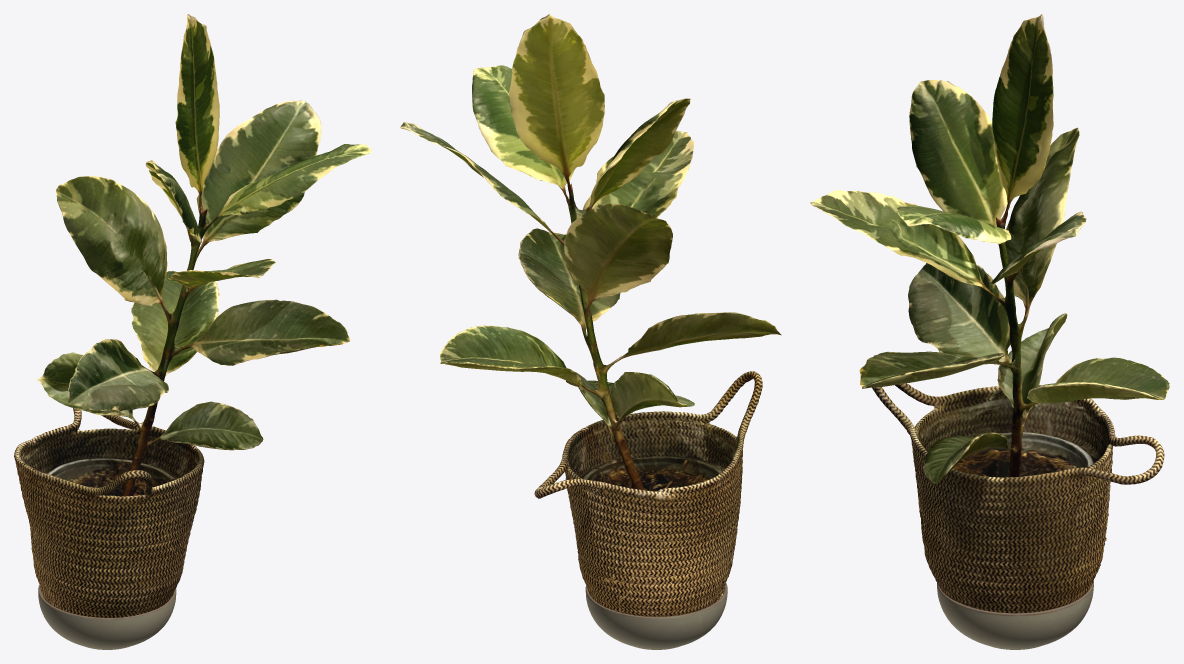
File: rubber_plant_fig.glb
3 views of the same model, side by side, from view 1: azimuth 30°, elevation 25°; view 2: azimuth 150°, elevation 25°; view 3: azimuth 270°, elevation 25° (orthographic). The views are drawn at different scales.
Parts seen in each view (by area): view 1: Polygon_1, Soup__Cereal_Bowl; view 2: Polygon_1, Soup__Cereal_Bowl; view 3: Polygon_1, Soup__Cereal_Bowl.
Boxes of the visible parts, x1,y1,x2,y2 form: Polygon_1: (14, 14, 371, 617); Soup__Cereal_Bowl: (38, 585, 176, 649); Polygon_1: (400, 14, 781, 616); Soup__Cereal_Bowl: (585, 583, 727, 649); Polygon_1: (810, 14, 1169, 613); Soup__Cereal_Bowl: (937, 581, 1093, 649).
Size of the model in its own units: 0.5798 by 1.07 by 0.5177.
2 materials, 2 textured.
